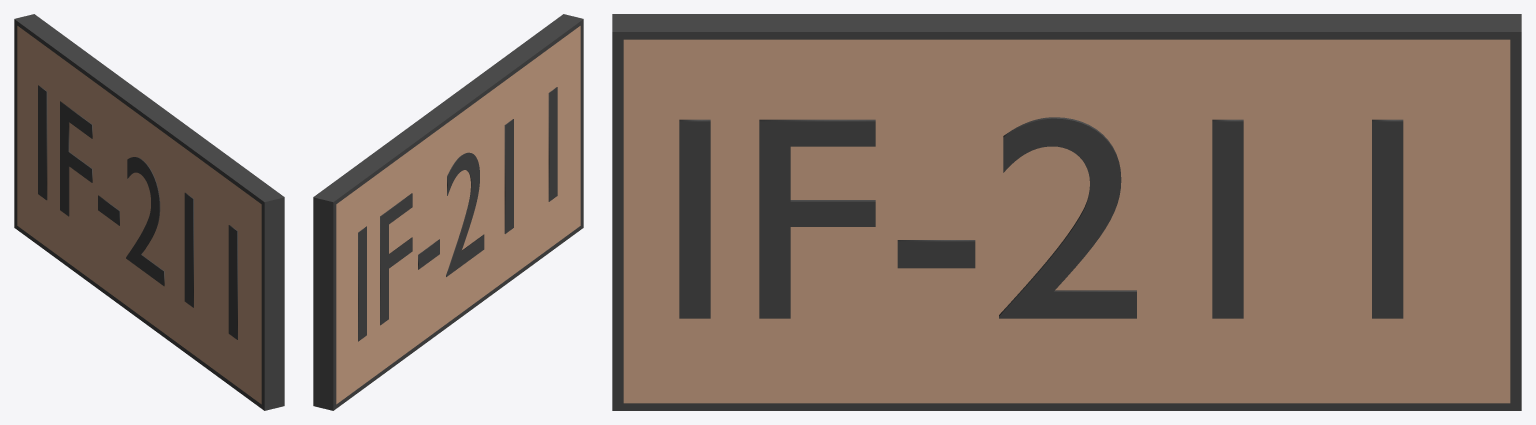
3 views of the same model, side by side, from view 1: azimuth 30°, elevation 25°; view 2: azimuth 150°, elevation 25°; view 3: azimuth 270°, elevation 25° (orthographic). The views are drawn at different scales.
Visible parts, largest first — view 1: Cube, Text.001; view 2: Cube, Text.001; view 3: Cube, Text.
Boxes of the visible parts, left/top/right/bottom form: Cube: left=14, top=14, right=284, bottom=410; Text.001: left=38, top=85, right=237, bottom=339; Cube: left=313, top=14, right=583, bottom=410; Text.001: left=358, top=87, right=557, bottom=341; Cube: left=612, top=14, right=1521, bottom=410; Text: left=679, top=117, right=1403, bottom=318.
Bounding box in the file's own units: 11.55 × 102 × 222.
